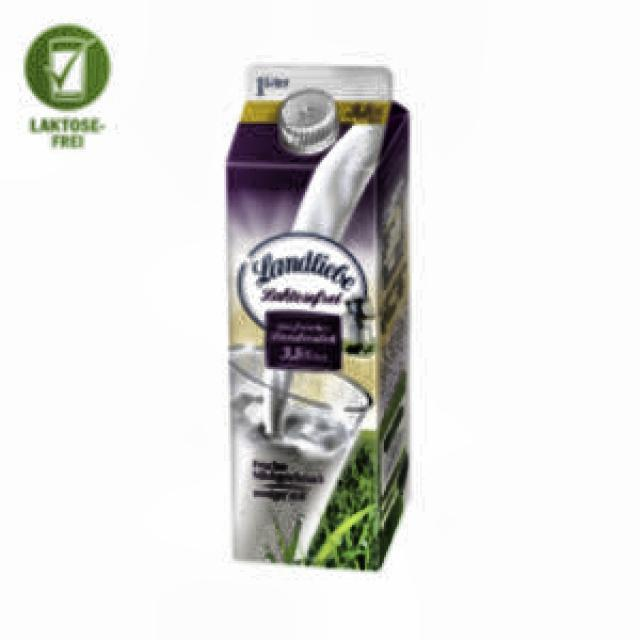cardboard: (224, 62, 410, 570)
